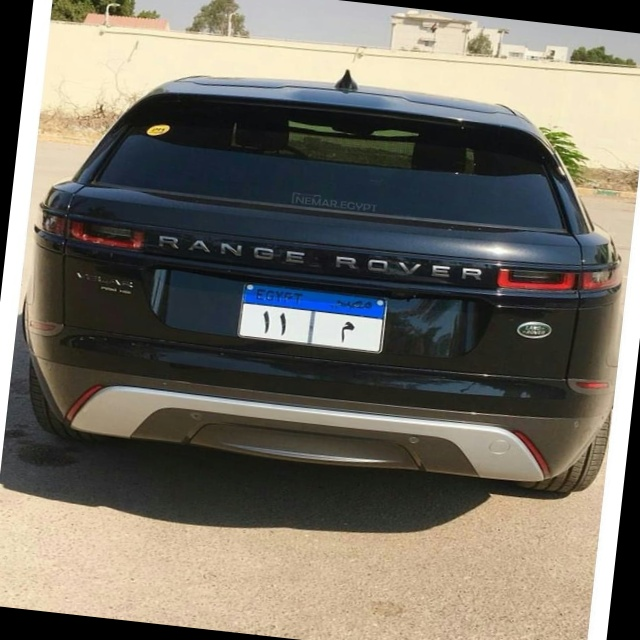License Plate: (233, 279, 393, 357)
